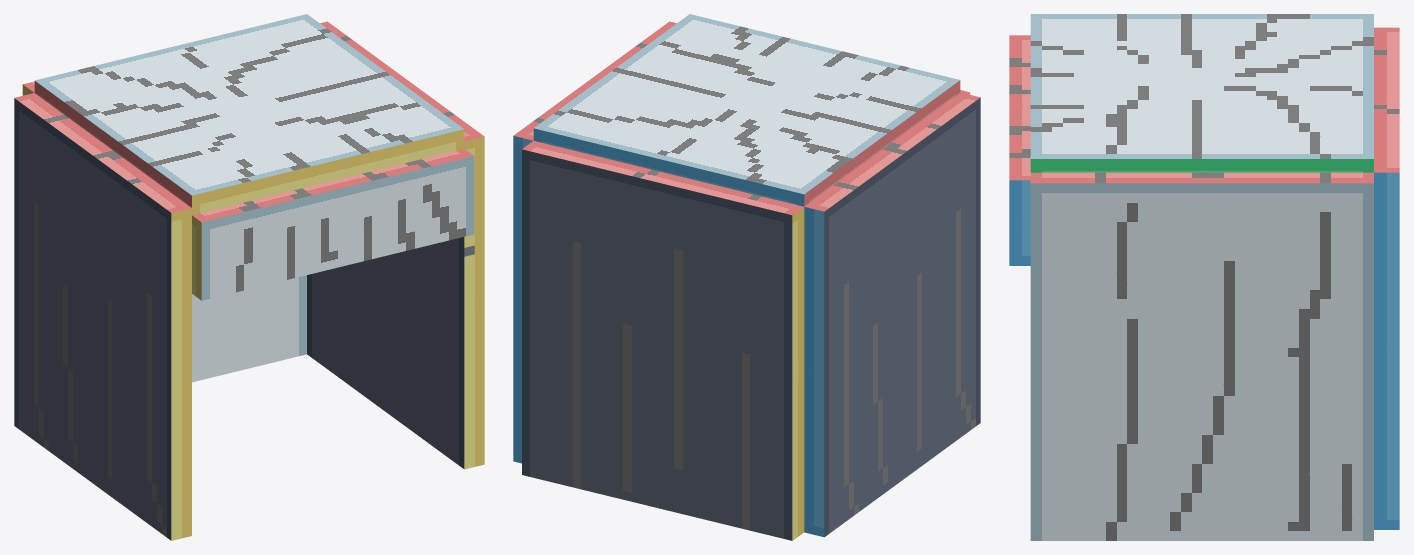
The model's file is bob.gltf.
The picture shows the model from 3 angles, left to right: view 1: azimuth 30°, elevation 25°; view 2: azimuth 150°, elevation 25°; view 3: azimuth 270°, elevation 25°; orthographic projection. The views are drawn at different scales.
Parts seen in each view (by area): view 1: 내 머리 (이 묶음 안의 상자만 내보내짐); view 2: 내 머리 (이 묶음 안의 상자만 내보내짐); view 3: 내 머리 (이 묶음 안의 상자만 내보내짐).
Boxes of the visible parts, x1,y1,x2,y2 form: 내 머리 (이 묶음 안의 상자만 내보내짐): [14, 14, 484, 540]; 내 머리 (이 묶음 안의 상자만 내보내짐): [513, 14, 980, 540]; 내 머리 (이 묶음 안의 상자만 내보내짐): [1009, 14, 1399, 540].
Size of the model in its own units: 0.575 by 0.5969 by 0.5688.
1 material, 1 textured.
